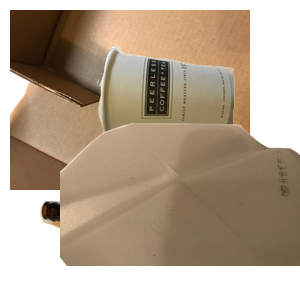cardboard: (10, 10, 250, 190)
glass: (37, 198, 236, 300)
plastic: (60, 120, 300, 300)
trash: (95, 44, 300, 180)
